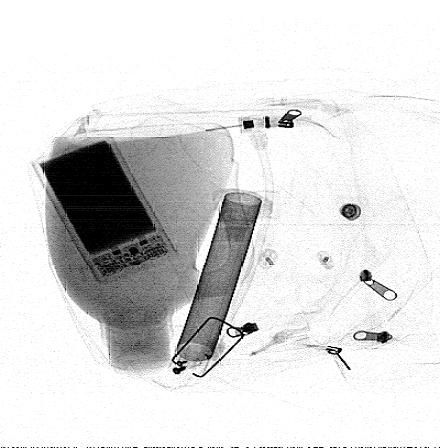Powerbank: (30, 133, 177, 286)
